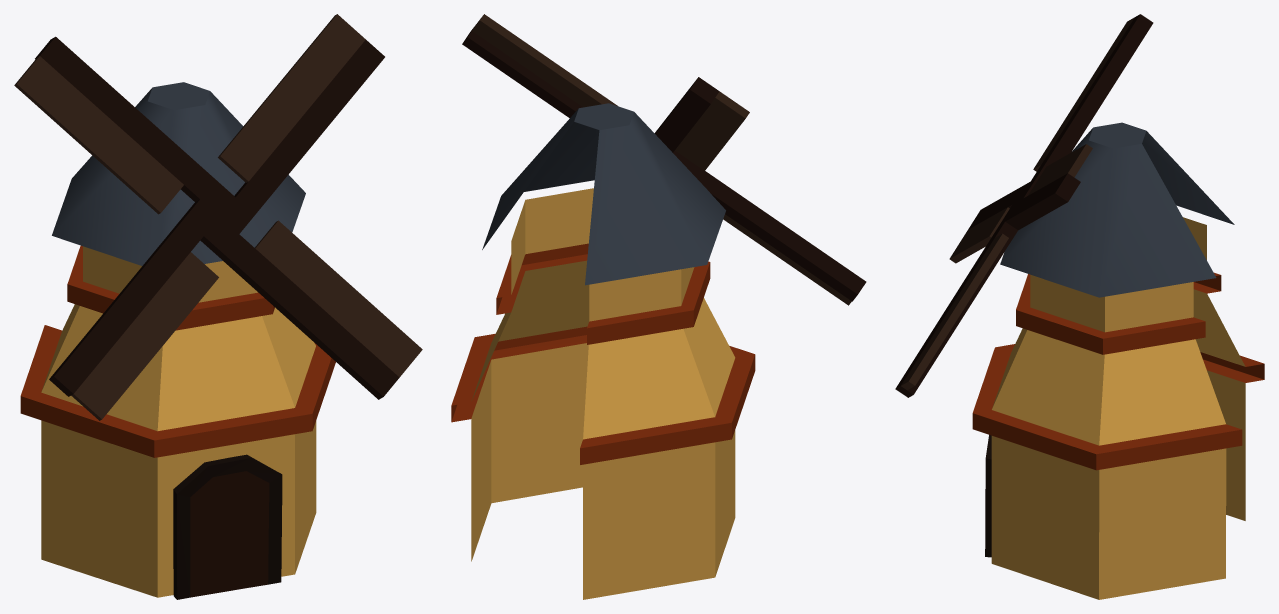
Rendered from molinoConMaterial.fbx.
3 renders of one model, left to right at view 1: azimuth 30°, elevation 25°; view 2: azimuth 150°, elevation 25°; view 3: azimuth 270°, elevation 25°, orthographic. The views are drawn at different scales.
Parts seen in each view (by area): view 1: Molino, Aspas; view 2: Molino, Aspas; view 3: Molino, Aspas.
Boxes of the visible parts, x1=… form: Molino: x1=20, y1=82, x2=335, y2=599; Aspas: x1=14, y1=14, x2=422, y2=420; Molino: x1=451, y1=103, x2=755, y2=599; Aspas: x1=462, y1=14, x2=866, y2=305; Molino: x1=972, y1=122, x2=1264, y2=599; Aspas: x1=895, y1=14, x2=1153, y2=397.
Bounding box in the file's own units: 0.8966 × 1.19 × 0.8311.
